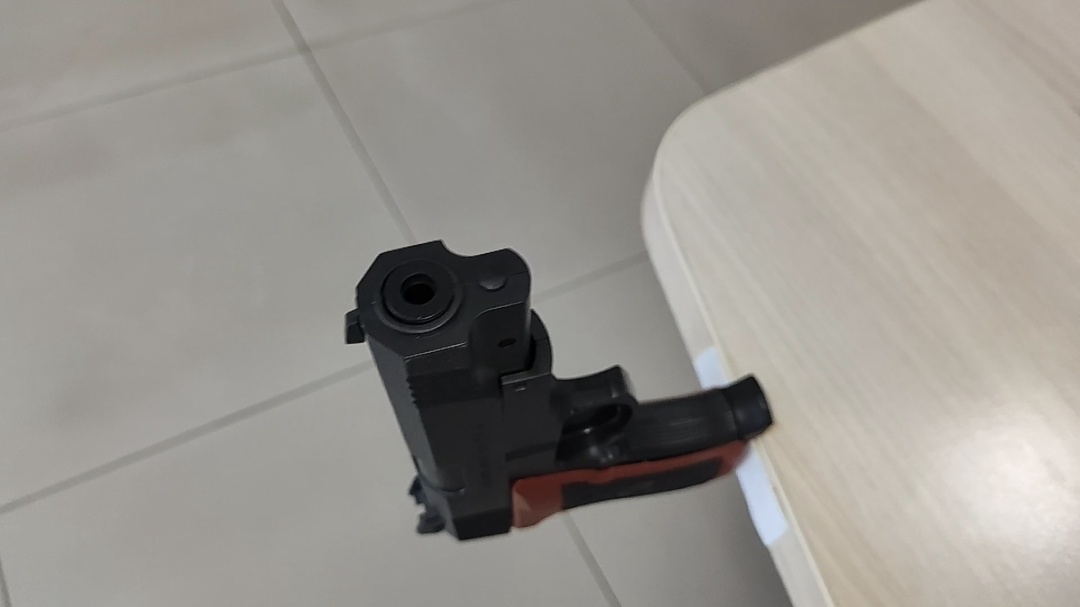gun: (513, 279, 548, 306)
